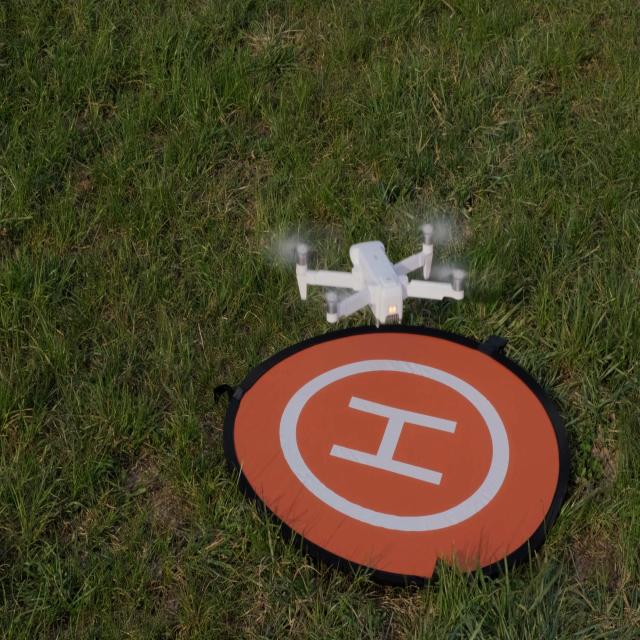drone: (294, 222, 466, 328)
